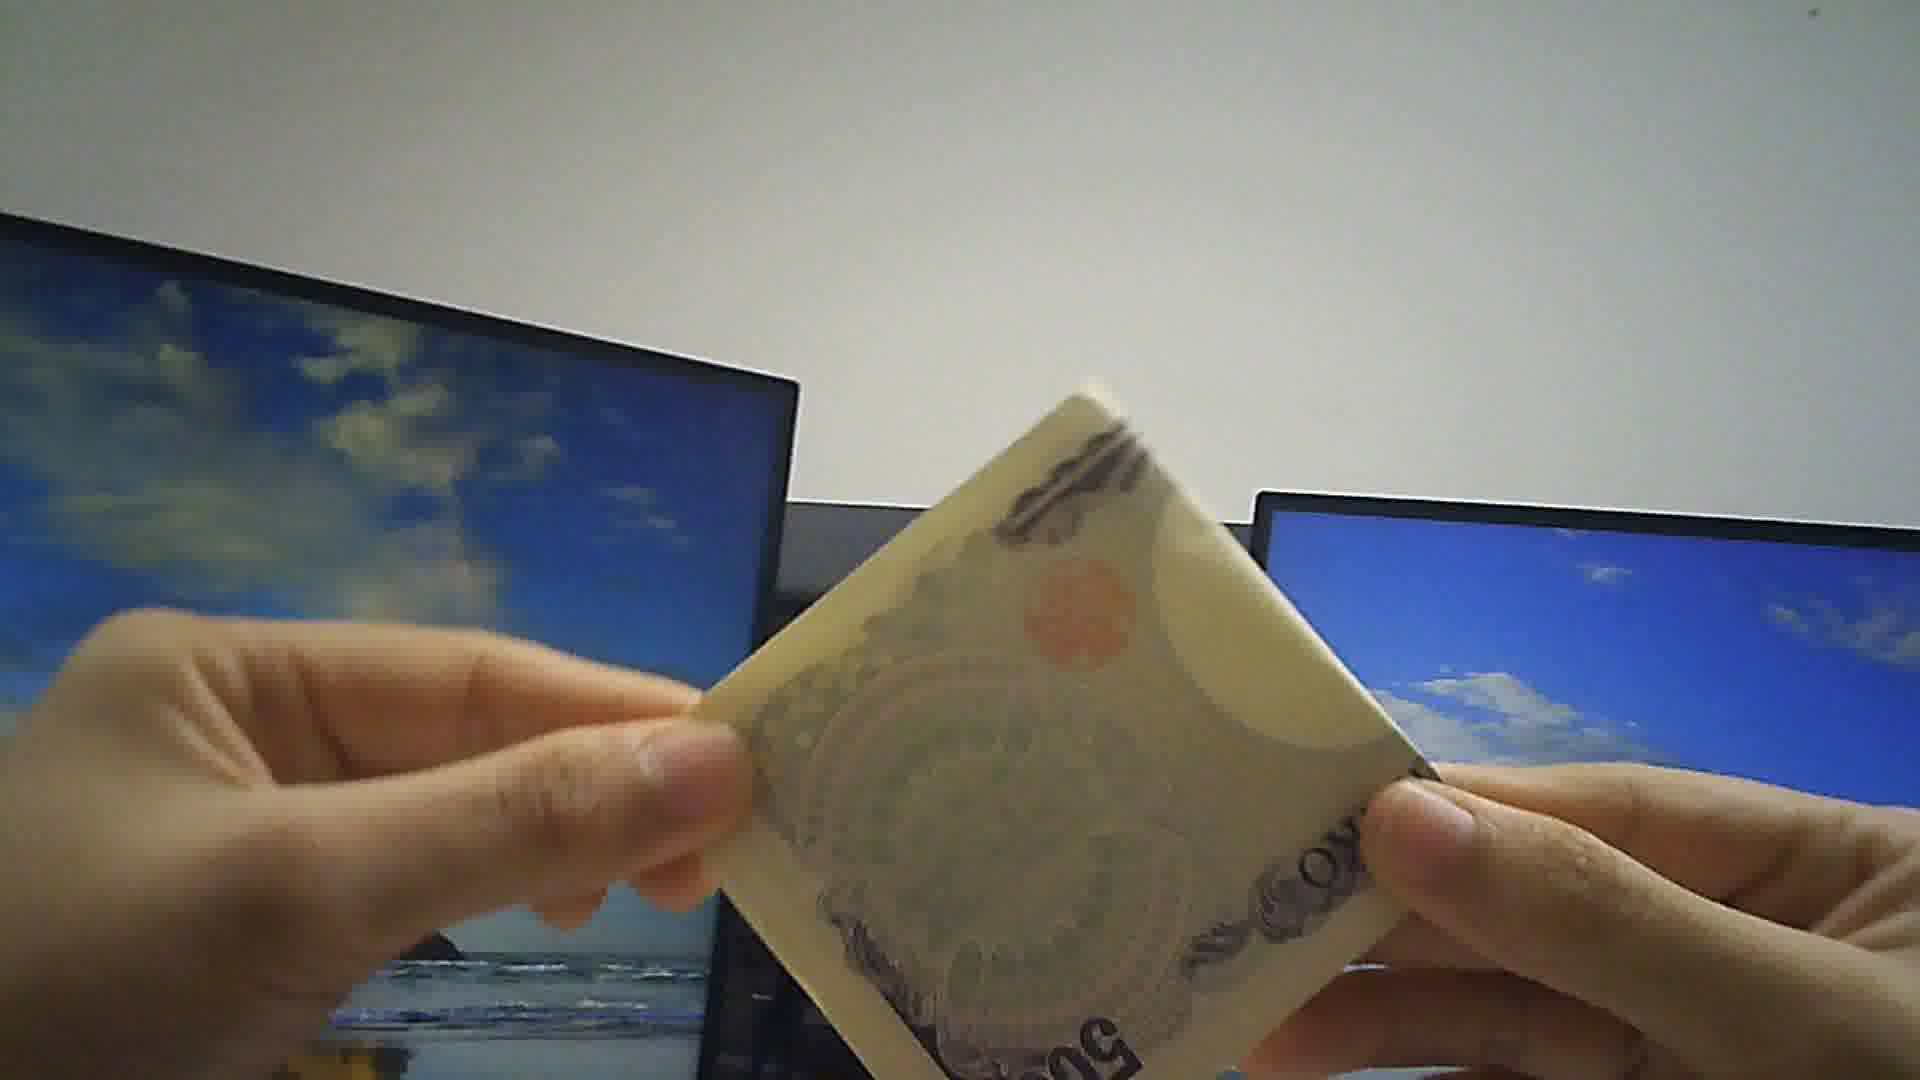5,000 Yen: (646, 393, 1453, 1079)
